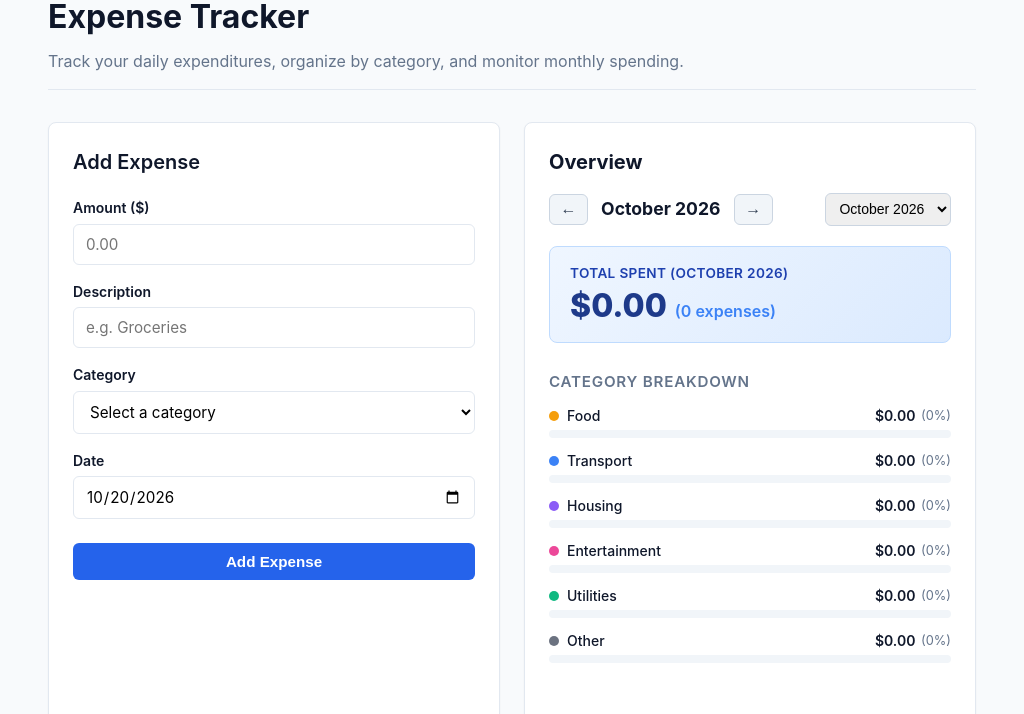
Test: Issue #3 - UI, Expense Management & LocalStorage Persistence › Feature 2: Expense Creation, Inline Validation & Prepending › creates an expense on valid form submission, prepends to the list, updates dashboard and persists to localStorage
Check: the text with test id "monthly-total-value" reads "$0.00", box [570,286,667,325]
# Fill in valid expense
Step 1. Type "42.50" into the number field labelled "Amount ($)" → (274, 244), box [73,224,475,265]
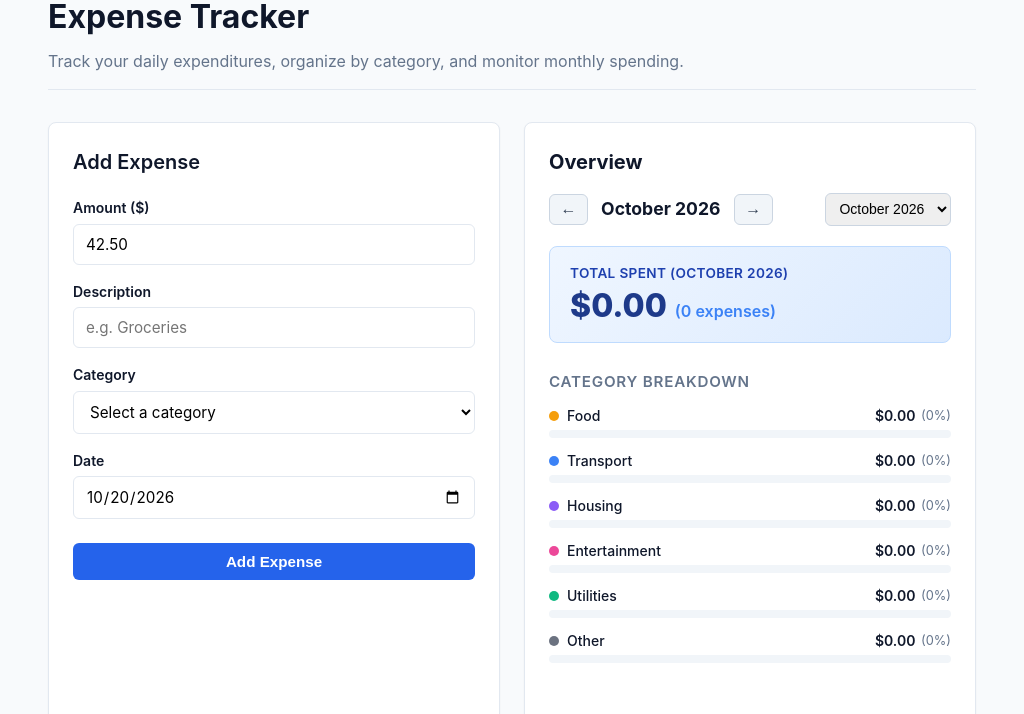
Step 2. Type "Groceries at Market" into the field labelled "Description" → (274, 328), box [73,307,475,348]
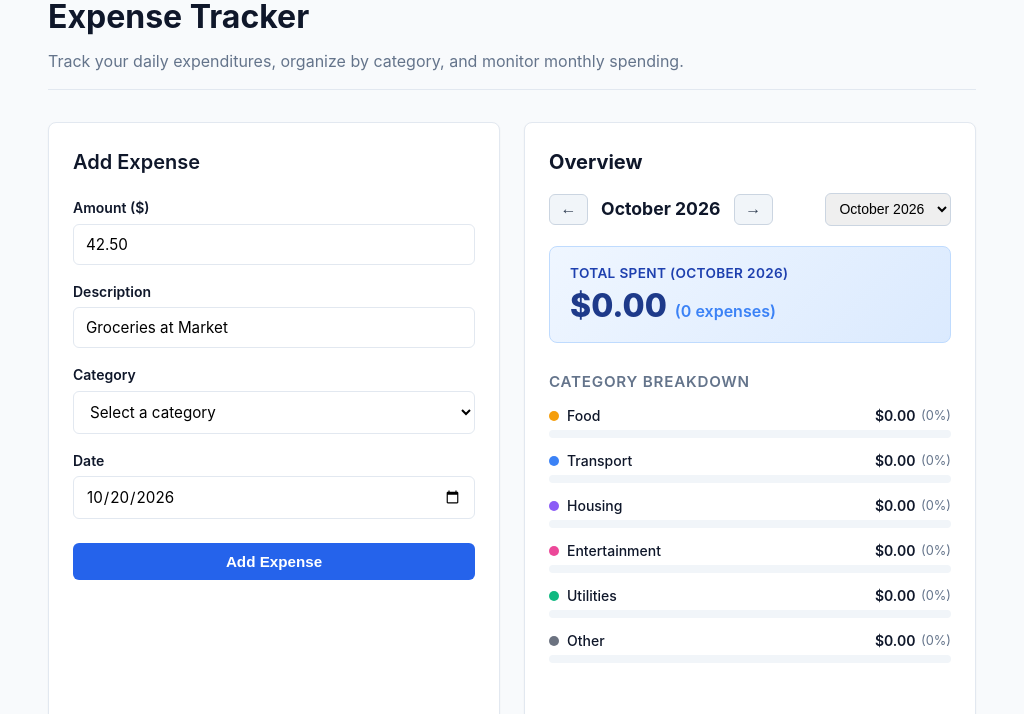
Step 3. Select "Food" in the dropdown labelled "Category" → (274, 412), box [73,391,475,434]
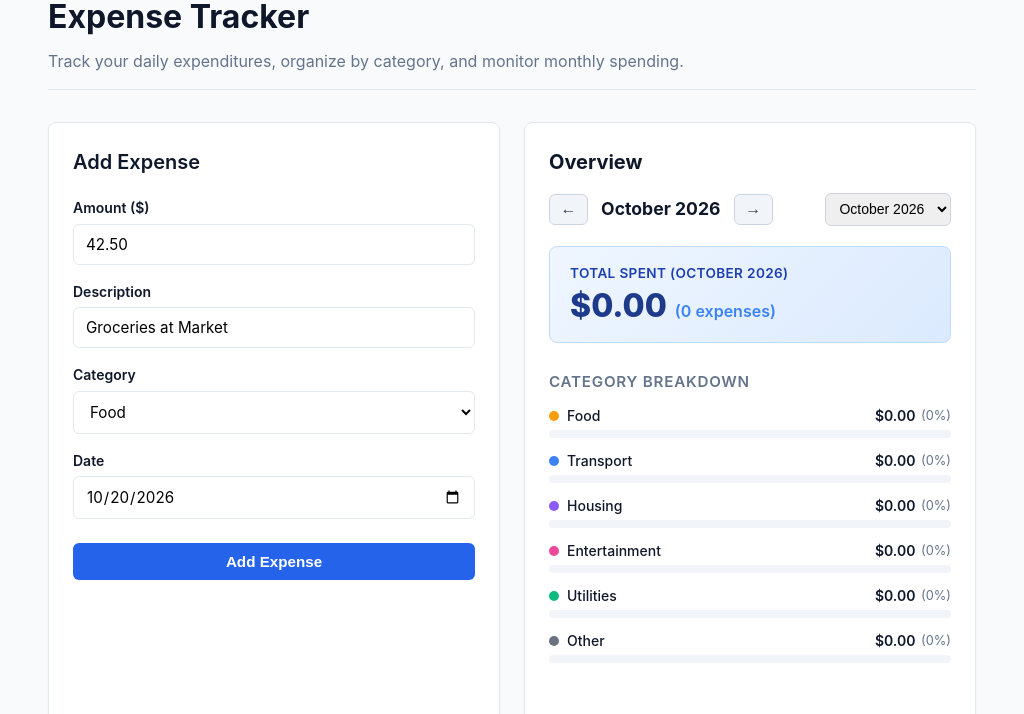
Step 4. Type "2026-10-15" into the date field labelled "Date" → (274, 498), box [73,476,475,519]
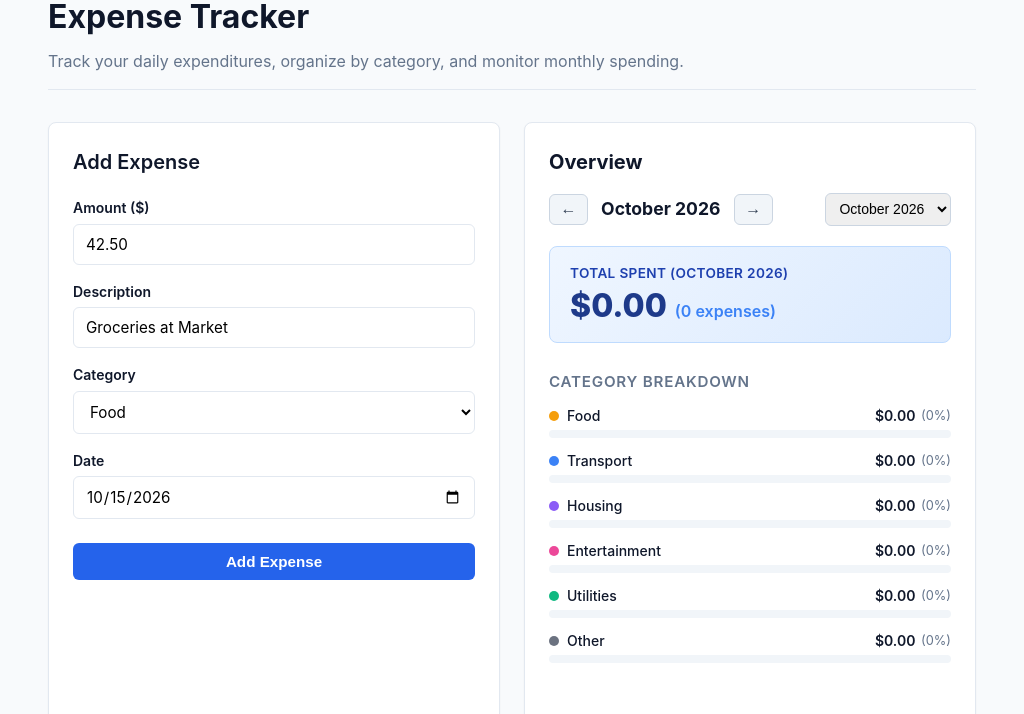
Step 5. Click the button "Add Expense" → (274, 562), box [73,543,475,580]
(page scrolled)
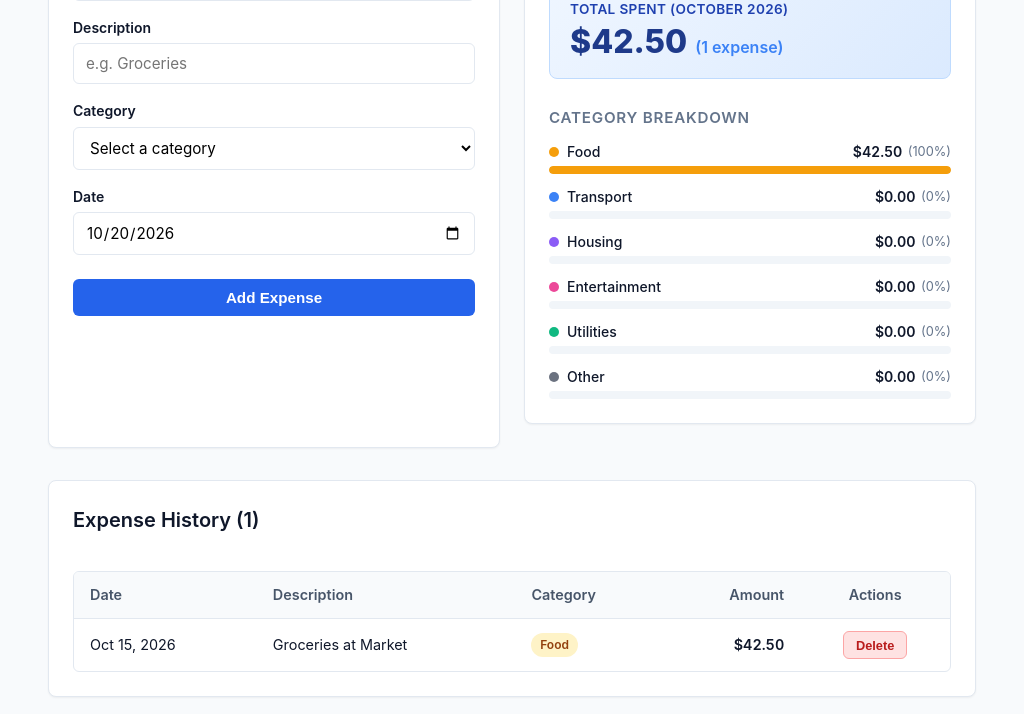
Check: the field labelled "Description" is empty, box [73,43,475,84]
Check: the text "Groceries at Market" is shown, box [257,618,515,671]
Check: the text "$42.50" is shown, box [665,618,800,671]
